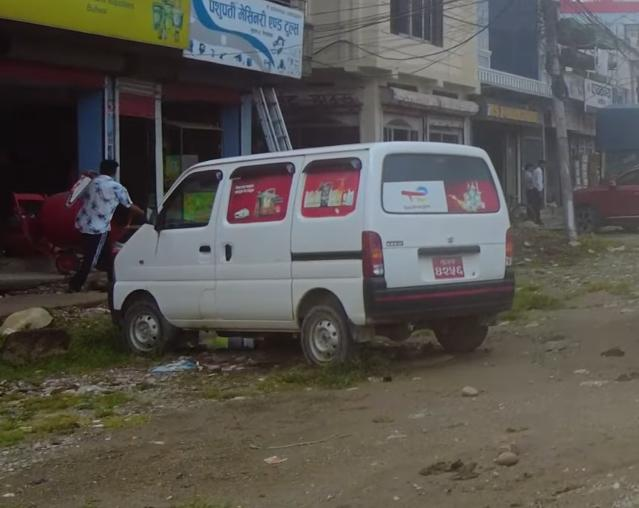van: (102, 135, 526, 375)
